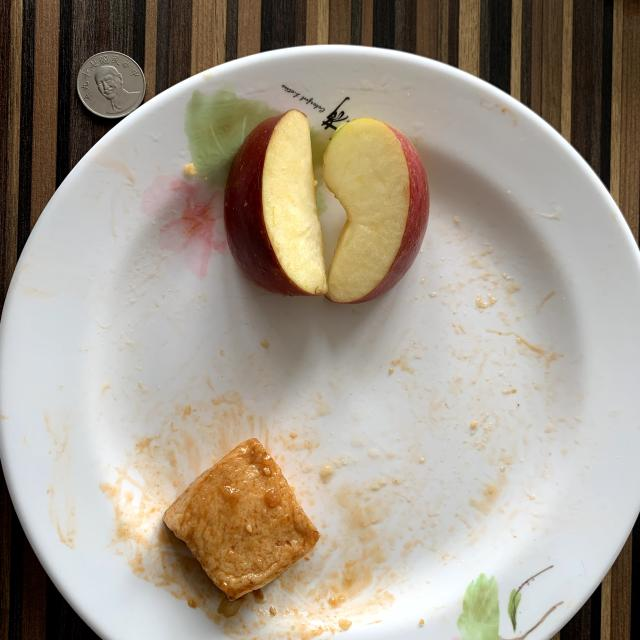apple -sliced-: (224, 110, 429, 302)
coin: (78, 51, 145, 119)
creamy tofu: (164, 439, 319, 600)
